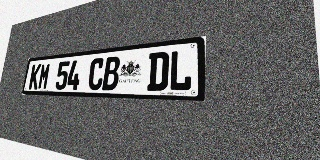4: (66, 60, 82, 90)
5: (55, 61, 70, 90)
B: (102, 56, 121, 90)
C: (87, 58, 105, 90)
D: (147, 51, 169, 91)
K: (28, 64, 41, 89)
L: (168, 49, 193, 91)
M: (37, 63, 51, 90)
